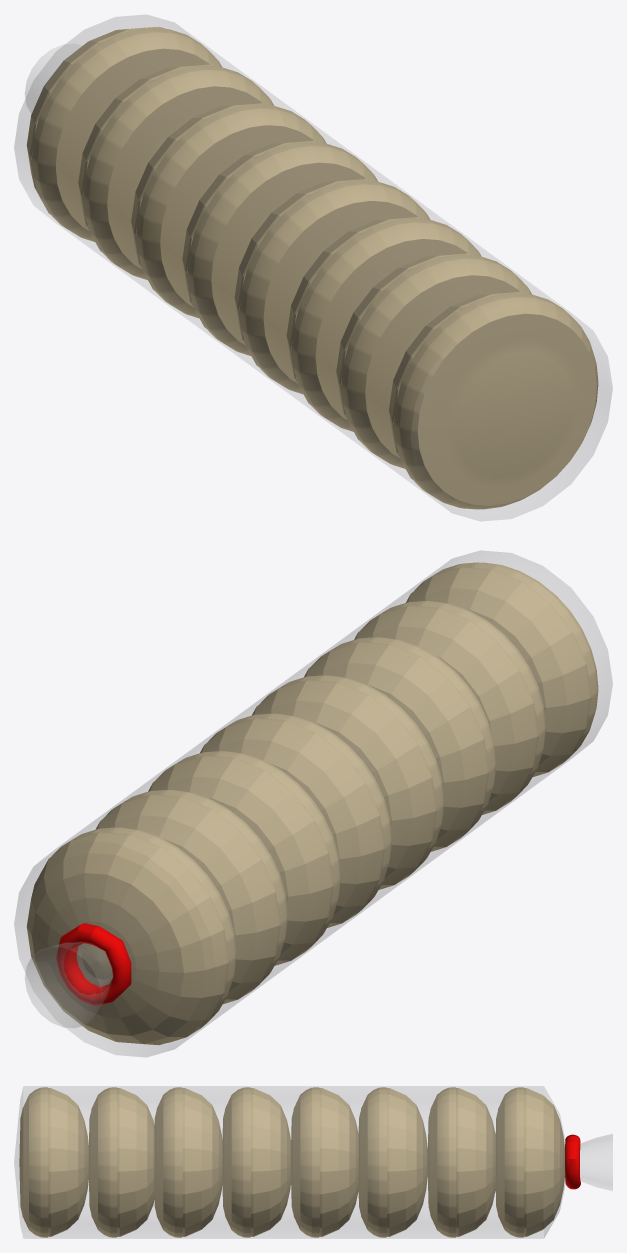
The model's file is bunBag.fbx.
The picture shows the model from 3 angles, top to bottom: view 1: azimuth 30°, elevation 25°; view 2: azimuth 150°, elevation 25°; view 3: azimuth 270°, elevation 25°; orthographic projection. The views are drawn at different scales.
Parts seen in each view (by area): view 1: bunBag01; view 2: bunBag01; view 3: bunBag01.
Boxes of the visible parts, box(x1,y1,x2,y2) form: bunBag01: box(14, 14, 612, 521); bunBag01: box(14, 550, 612, 1057); bunBag01: box(14, 1086, 612, 1238).
Bounding box in the file's own units: 20.5 × 20.5 × 79.82.
